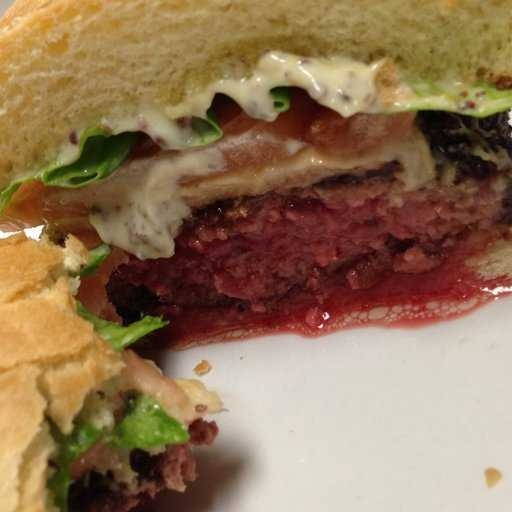hamburger: (1, 3, 512, 325)
